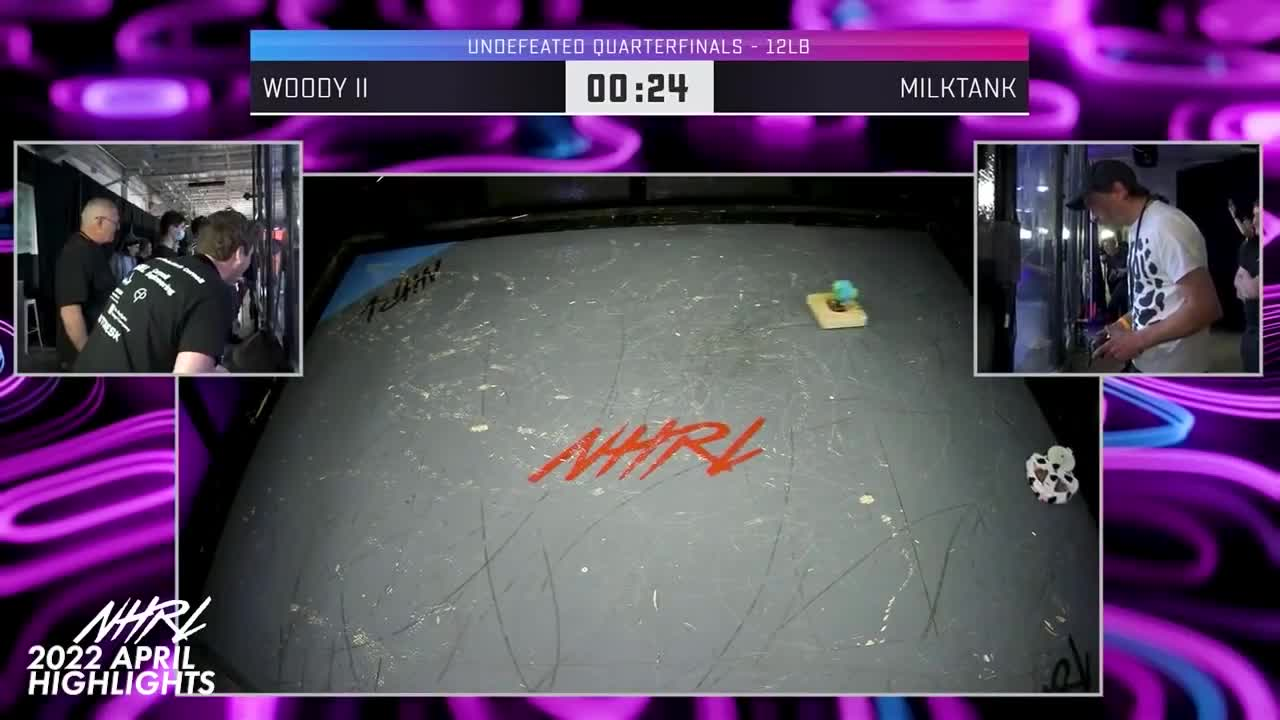combatbot: (1021, 443, 1081, 507), (803, 274, 867, 330)
